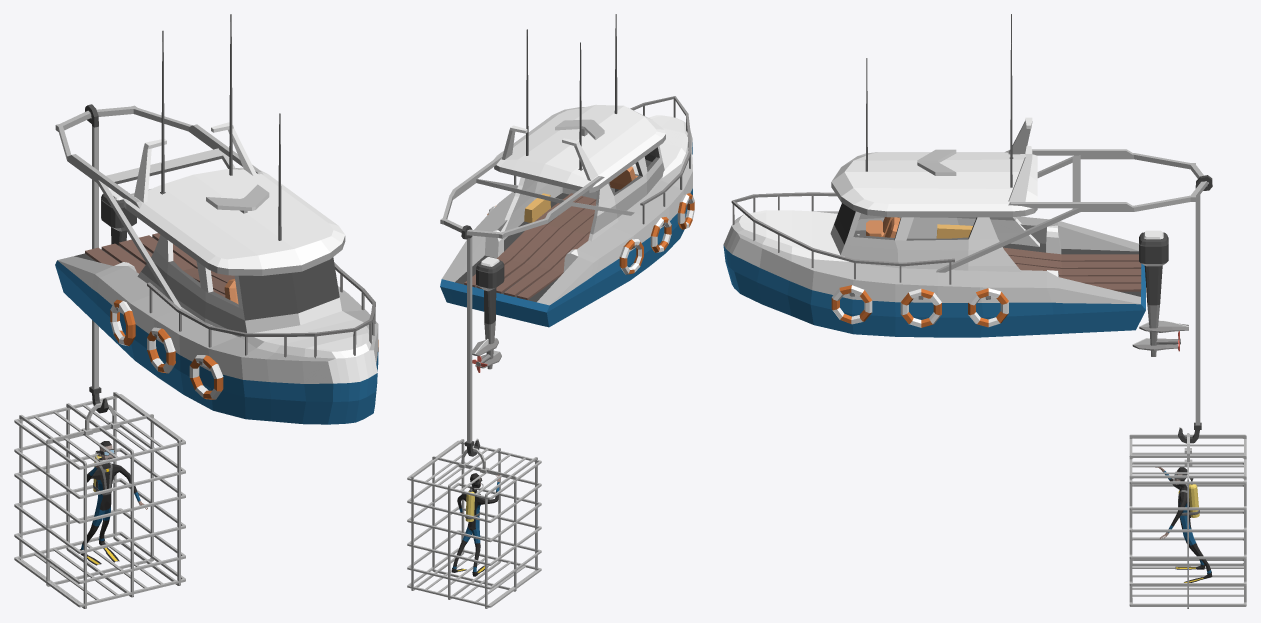
The model's file is about.glb.
3 renders of one model, left to right at view 1: azimuth 30°, elevation 25°; view 2: azimuth 150°, elevation 25°; view 3: azimuth 270°, elevation 25°, orthographic. The views are drawn at different scales.
Parts seen in each view (by area): view 1: Object_8, Object_7; view 2: Object_8, Object_7; view 3: Object_8, Object_7.
Part boxes in pixels (x1,y1,x2,y2): Object_8: [14, 14, 378, 608]; Object_7: [79, 441, 147, 565]; Object_8: [407, 14, 694, 608]; Object_7: [452, 473, 500, 576]; Object_8: [723, 14, 1246, 608]; Object_7: [1155, 467, 1212, 582].
Bounding box in the file's own units: 8.91 × 28.36 × 24.17.
Materials: 1 (1 with a texture image).
